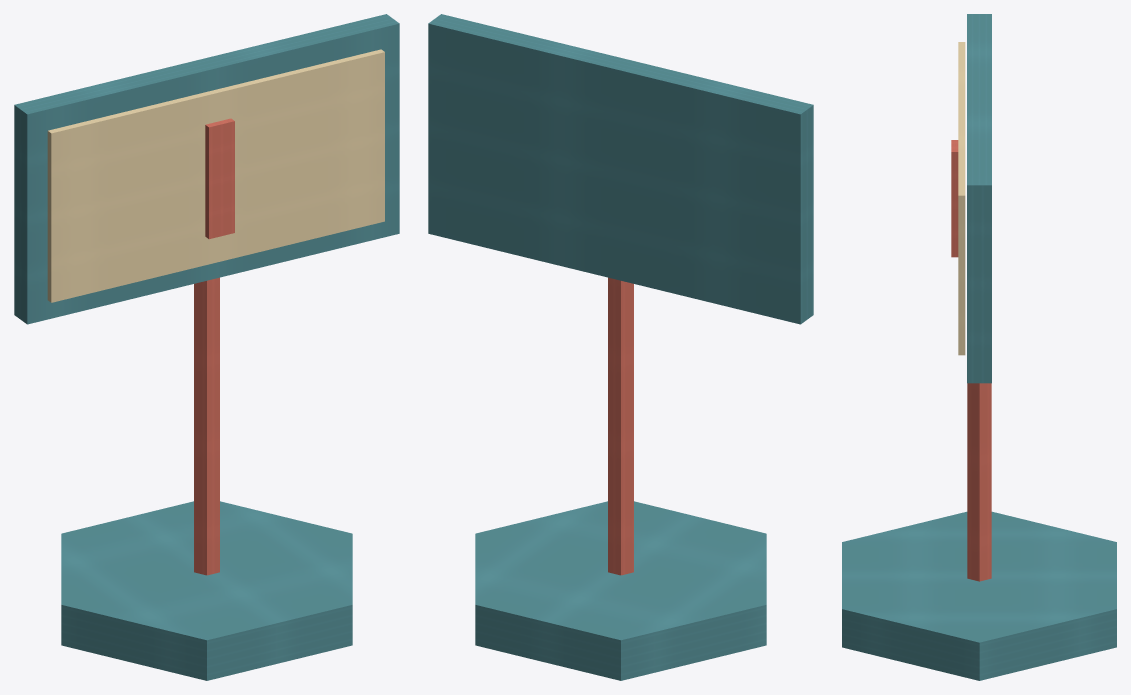
The model's file is atlas100-s073-a11.lod2.glb.
The picture shows the model from 3 angles, left to right: view 1: azimuth 30°, elevation 25°; view 2: azimuth 150°, elevation 25°; view 3: azimuth 270°, elevation 25°; orthographic projection. The views are drawn at different scales.
Parts seen in each view (by area): view 1: atlas100-s073-a11:part-003, atlas100-s073-a11:part-000, atlas100-s073-a11:part-002, atlas100-s073-a11:part-001, atlas100-s073-a11:part-005; view 2: atlas100-s073-a11:part-002, atlas100-s073-a11:part-000, atlas100-s073-a11:part-001; view 3: atlas100-s073-a11:part-000, atlas100-s073-a11:part-002, atlas100-s073-a11:part-001, atlas100-s073-a11:part-003, atlas100-s073-a11:part-005.
Part boxes in pixels (left/top/right/bottom): atlas100-s073-a11:part-003: left=47, top=49, right=384, bottom=302; atlas100-s073-a11:part-000: left=61, top=501, right=352, bottom=680; atlas100-s073-a11:part-002: left=14, top=14, right=399, bottom=324; atlas100-s073-a11:part-001: left=194, top=277, right=219, bottom=575; atlas100-s073-a11:part-005: left=205, top=118, right=234, bottom=239; atlas100-s073-a11:part-002: left=428, top=14, right=813, bottom=324; atlas100-s073-a11:part-000: left=475, top=501, right=766, bottom=680; atlas100-s073-a11:part-001: left=608, top=277, right=633, bottom=575; atlas100-s073-a11:part-000: left=842, top=511, right=1116, bottom=680; atlas100-s073-a11:part-002: left=967, top=14, right=991, bottom=383; atlas100-s073-a11:part-001: left=967, top=383, right=991, bottom=581; atlas100-s073-a11:part-003: left=958, top=42, right=965, bottom=355; atlas100-s073-a11:part-005: left=951, top=140, right=958, bottom=257.
Bounding box in the file's own units: 1.15 × 1.61 × 0.7794.
Materials: 3 (3 with a texture image).
